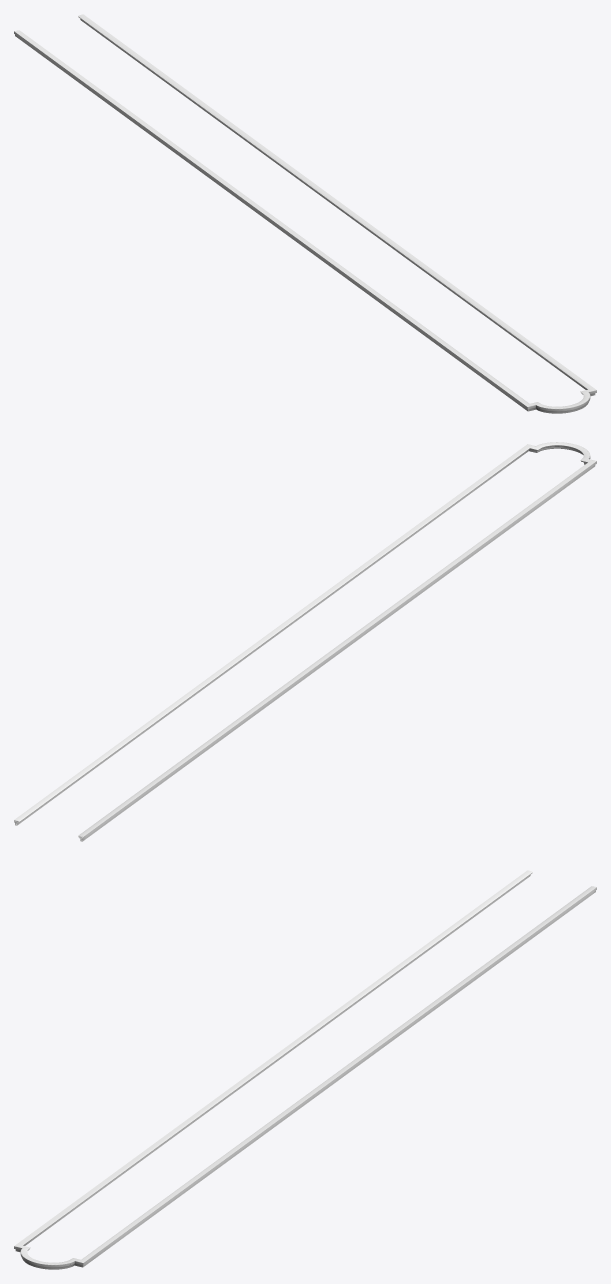
Rendered from architrave.glb.
3 views of the same model, one above another, from view 1: azimuth 30°, elevation 25°; view 2: azimuth 150°, elevation 25°; view 3: azimuth 330°, elevation 25° (orthographic).
Parts seen in each view (by area): view 1: BezierCurve.001; view 2: BezierCurve.001; view 3: BezierCurve.001.
Boxes of the visible parts, x1,y1,x2,y2 form: BezierCurve.001: [14, 14, 596, 413]; BezierCurve.001: [14, 442, 596, 841]; BezierCurve.001: [14, 870, 596, 1269].
Bounding box in the file's own units: 10.18 × 0.7212 × 133.
1 material, 1 textured.
